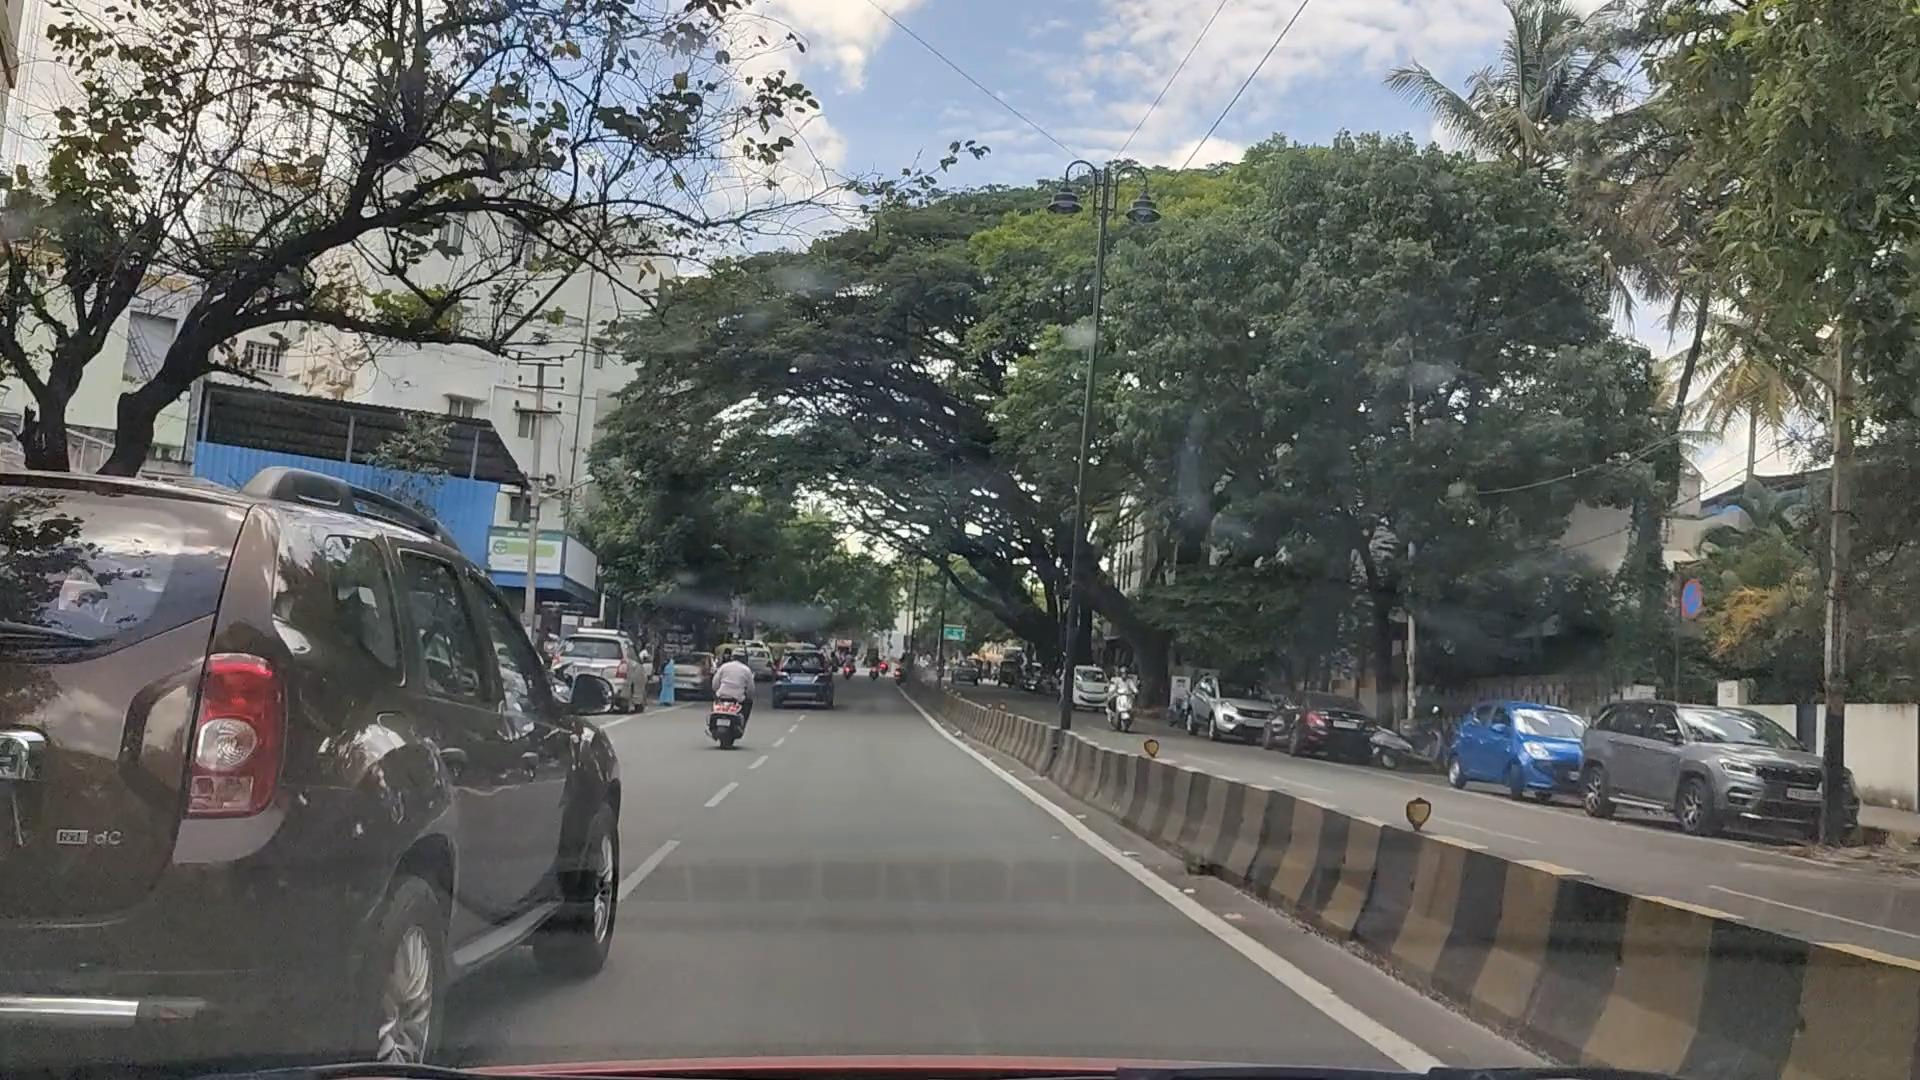LMV: (3, 468, 640, 1072)
